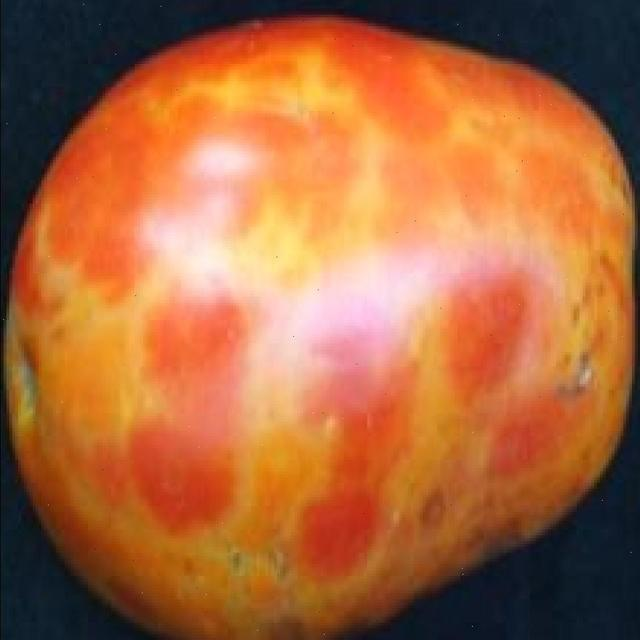Spotted wilt Virus Fruit: (2, 14, 425, 427)
